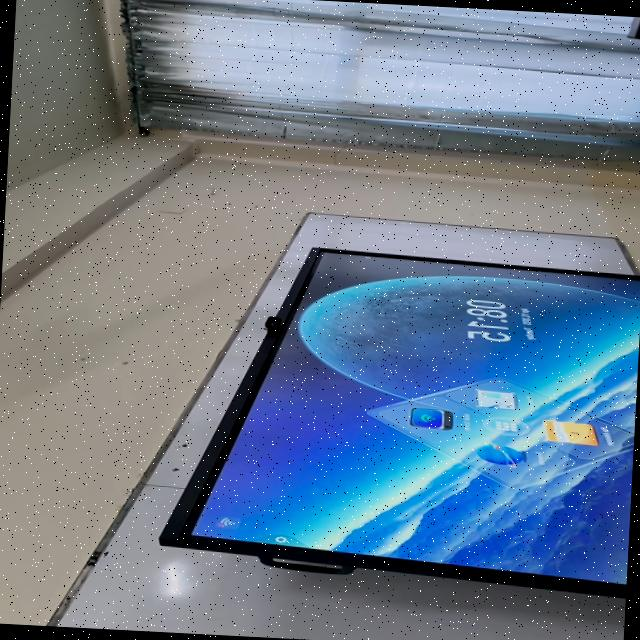Cpu: (627, 16, 640, 38)
Digital board: (160, 247, 640, 597)
